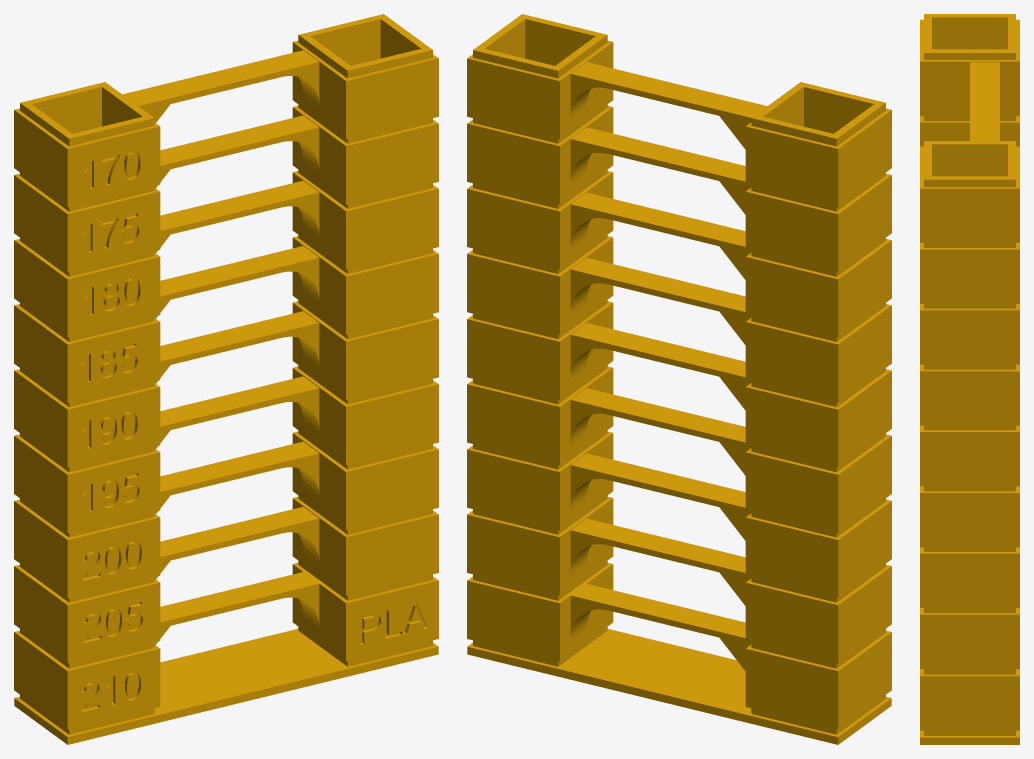
The model's file is 170-210_PLA_Temp_Tower-77.glb.
The picture shows the model from 3 angles, left to right: view 1: azimuth 30°, elevation 25°; view 2: azimuth 150°, elevation 25°; view 3: azimuth 270°, elevation 25°; orthographic projection. The views are drawn at different scales.
Size of the model in its own units: 40.03 by 62.2 by 10.
